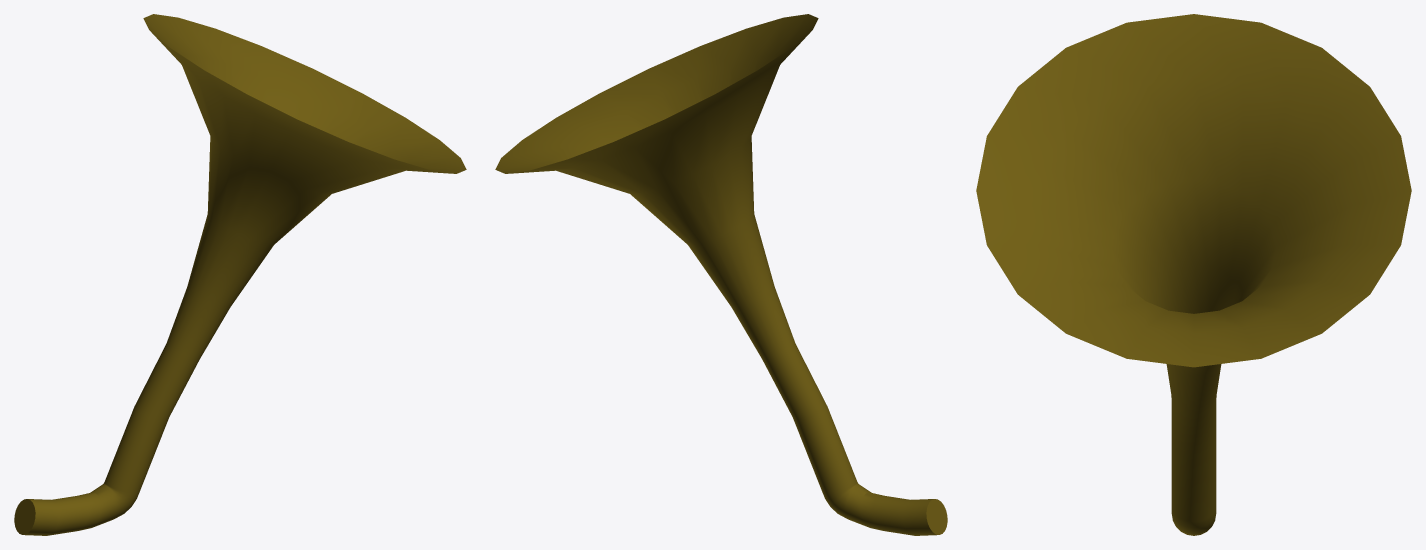
Rendered from Exhaust.obj.
3 views of the same model, side by side, from view 1: azimuth 30°, elevation 25°; view 2: azimuth 150°, elevation 25°; view 3: azimuth 270°, elevation 25° (orthographic). The views are drawn at different scales.
Visible parts, largest first — view 1: Exhaust1 HouseBase1; view 2: Exhaust1 HouseBase1; view 3: Exhaust1 HouseBase1.
Part boxes in pixels (bbox=[...]): Exhaust1 HouseBase1: bbox=[14, 14, 466, 535]; Exhaust1 HouseBase1: bbox=[495, 14, 947, 535]; Exhaust1 HouseBase1: bbox=[976, 14, 1411, 535].
Bounding box in the file's own units: 10.14 × 10.57 × 7.46.
